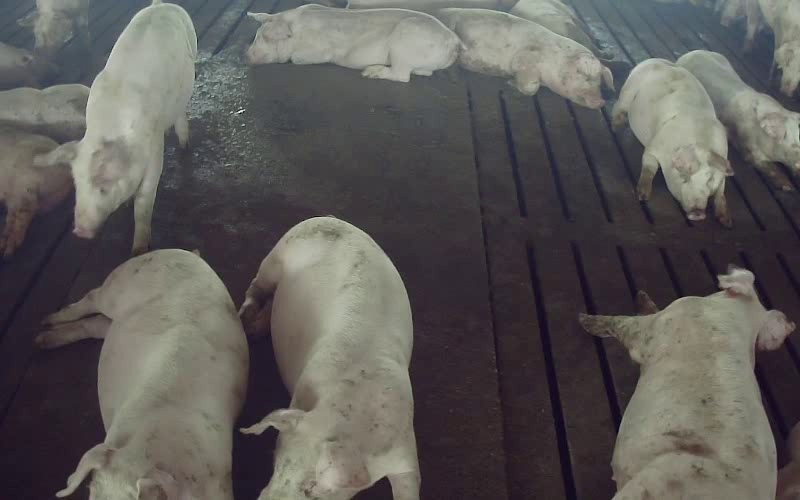pig: (36, 249, 247, 499), (239, 217, 420, 499), (580, 268, 794, 499), (36, 2, 195, 253), (612, 58, 732, 225), (436, 8, 613, 108), (677, 50, 799, 190), (247, 4, 461, 81)
